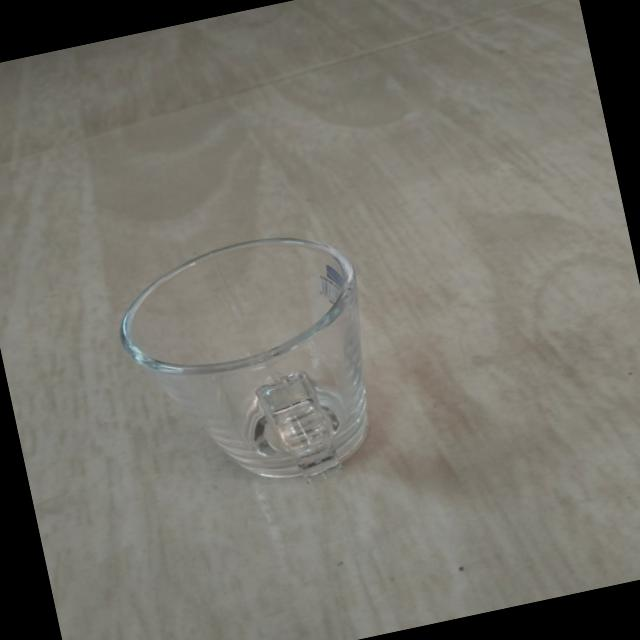glass-VX4N: (106, 220, 394, 512)
